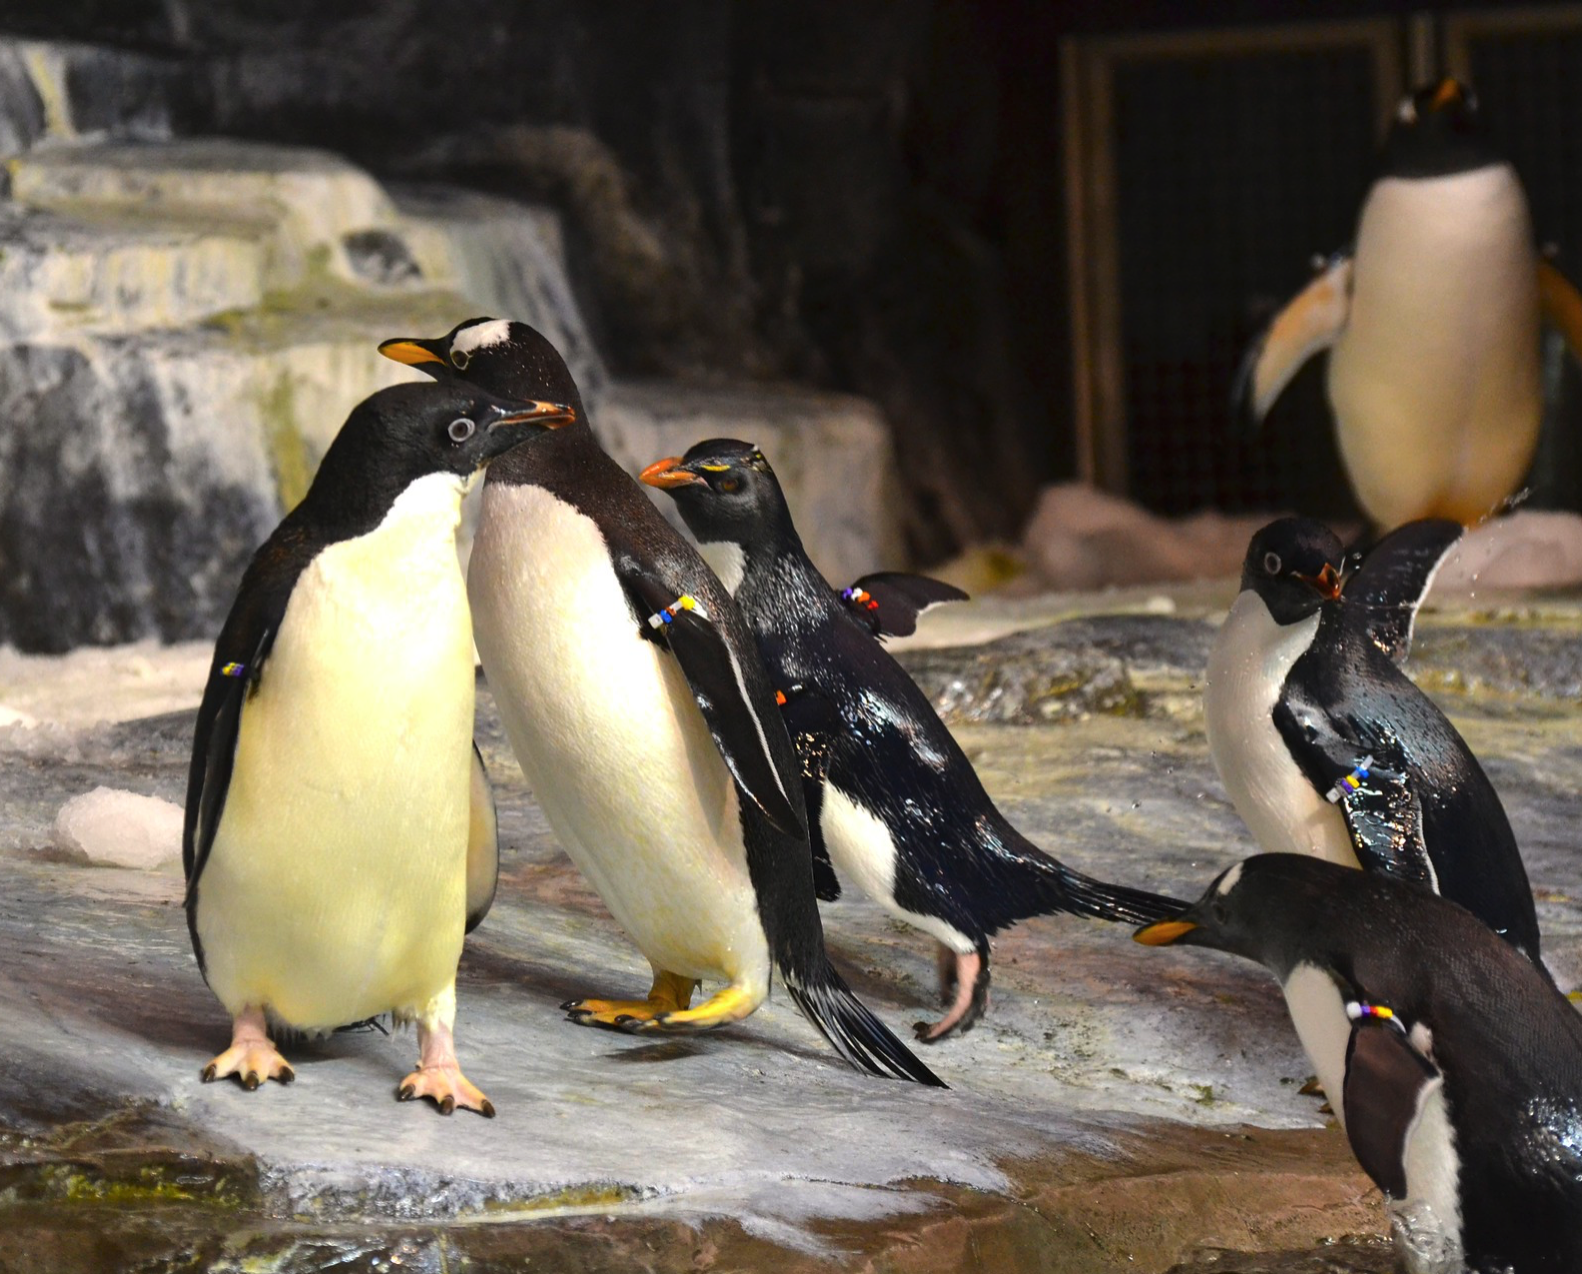penguin: (370, 325, 946, 1104), (179, 376, 582, 1128)
